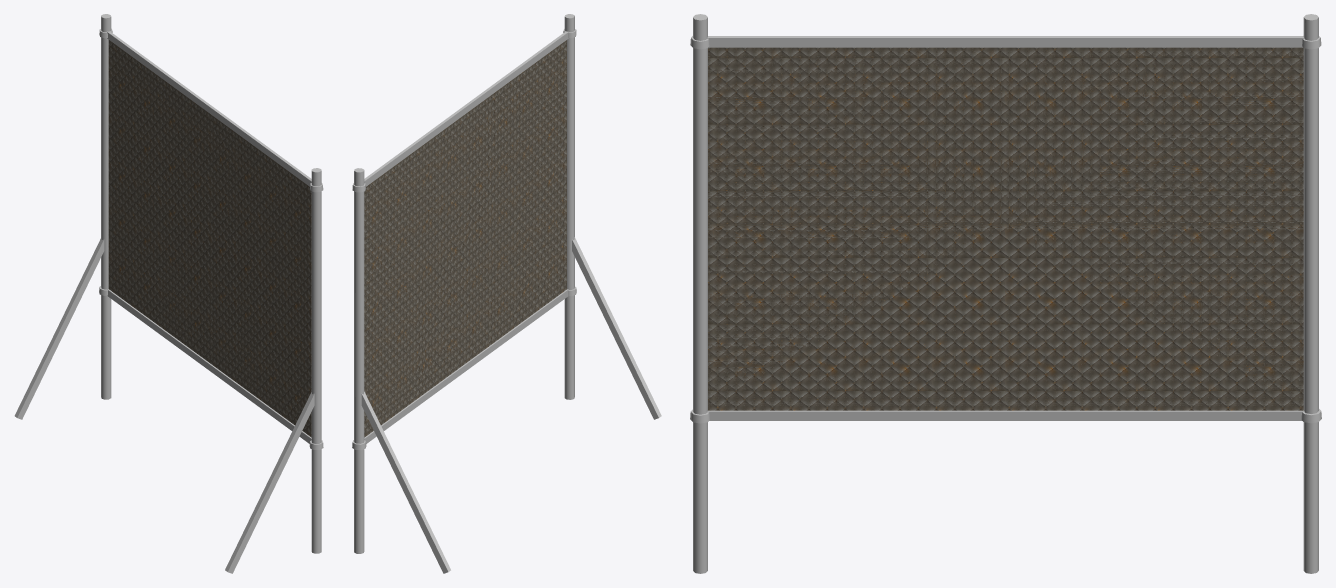
File: Wall4D.fbx
The picture shows the model from 3 angles, left to right: view 1: azimuth 30°, elevation 25°; view 2: azimuth 150°, elevation 25°; view 3: azimuth 270°, elevation 25°; orthographic projection. The views are drawn at different scales.
Visible parts, largest first — view 1: polySurface157; view 2: polySurface157; view 3: polySurface157.
Part boxes in pixels (<box>): polySurface157: <box>14,14,323,573</box>; polySurface157: <box>352,14,661,573</box>; polySurface157: <box>690,14,1321,573</box>.
Bounding box in the file's own units: 1.03 × 3.87 × 4.
